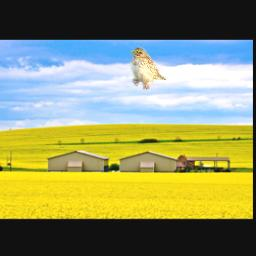Sparrow: (130, 47, 167, 90)
